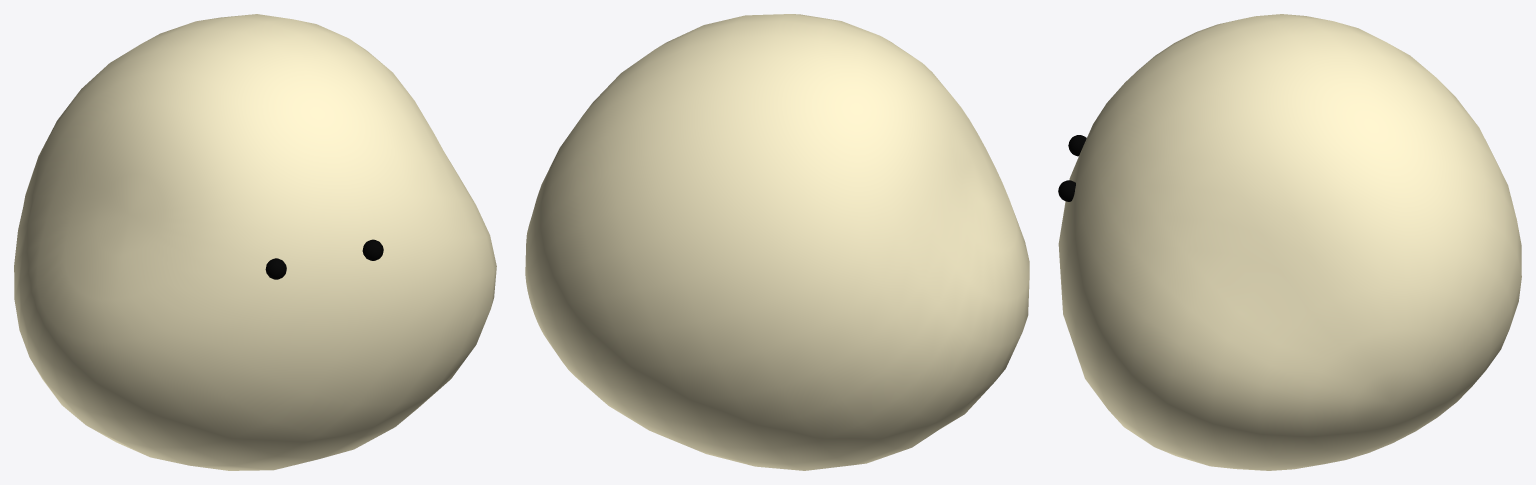
The model's file is roomie1 2.glb.
3 renders of one model, left to right at view 1: azimuth 30°, elevation 25°; view 2: azimuth 150°, elevation 25°; view 3: azimuth 270°, elevation 25°, orthographic. The views are drawn at different scales.
Parts seen in each view (by area): view 1: Body; view 2: Body; view 3: Body.
Boxes of the visible parts, x1,y1,x2,y2 form: Body: [14, 14, 496, 470]; Body: [525, 14, 1029, 470]; Body: [1058, 14, 1521, 470].
Size of the model in its own units: 5.89 by 5.3 by 5.47.
